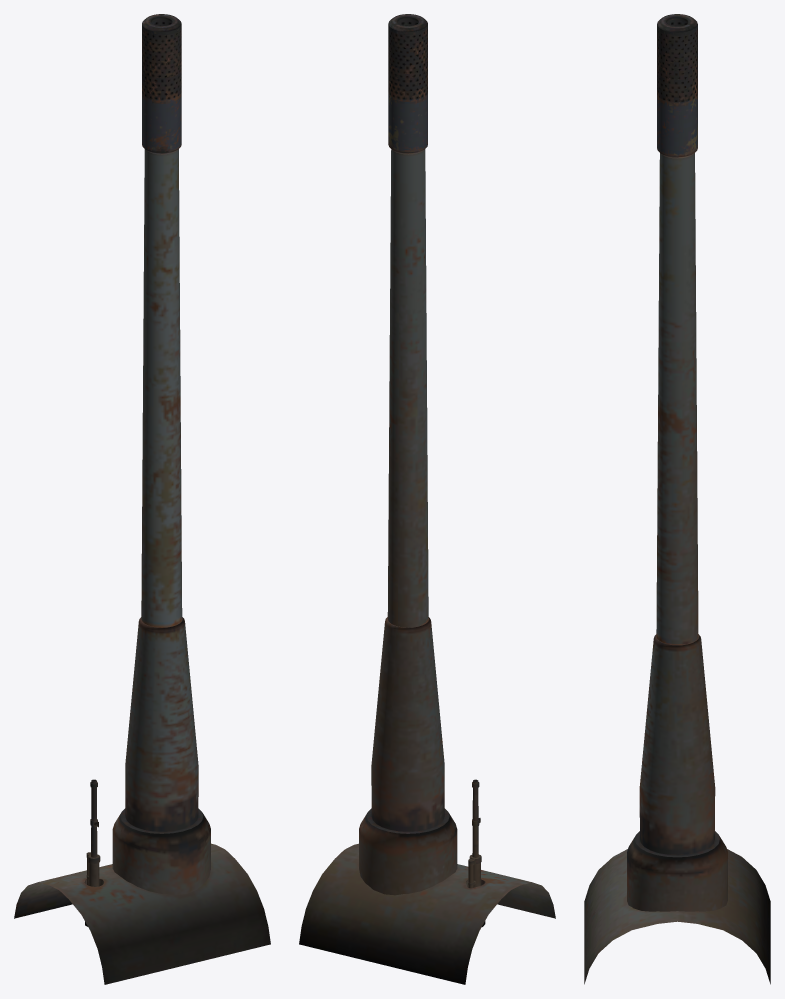
Rendered from Gun_02.glb.
3 views of the same model, side by side, from view 1: azimuth 30°, elevation 25°; view 2: azimuth 150°, elevation 25°; view 3: azimuth 270°, elevation 25° (orthographic). The views are drawn at different scales.
Parts seen in each view (by area): view 1: set_0_group_0; view 2: set_0_group_0; view 3: set_0_group_0.
Boxes of the visible parts, bbox=[...] form: set_0_group_0: bbox=[14, 14, 270, 984]; set_0_group_0: bbox=[299, 14, 555, 984]; set_0_group_0: bbox=[584, 14, 770, 984].
Bounding box in the file's own units: 0.6898 × 3.59 × 0.6501.
Materials: 1 (1 with a texture image).
